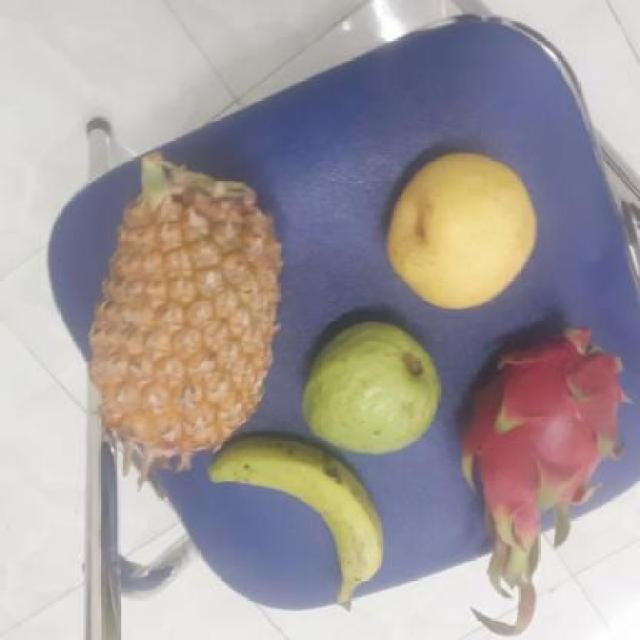banana: (208, 436, 383, 596)
dragon fruit: (453, 325, 621, 528)
guava: (298, 323, 440, 454)
pear: (379, 151, 539, 308)
pineapple: (78, 151, 279, 468)
